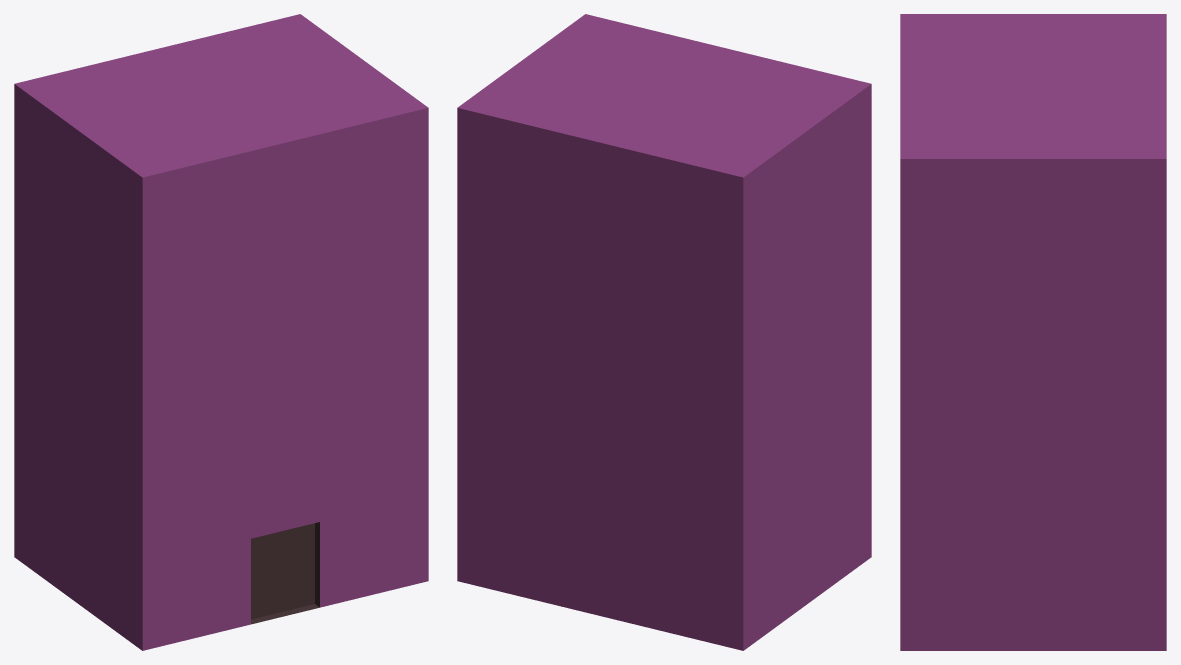
Rendered from edificio_Base_Mats.fbx.
3 renders of one model, left to right at view 1: azimuth 30°, elevation 25°; view 2: azimuth 150°, elevation 25°; view 3: azimuth 270°, elevation 25°, orthographic. The views are drawn at different scales.
Parts seen in each view (by area): view 1: Cube.008; view 2: Cube.008; view 3: Cube.008.
Boxes of the visible parts, x1,y1,x2,y2 form: Cube.008: (14,14,428,650); Cube.008: (457,14,871,650); Cube.008: (900,14,1166,650).
Bounding box in the file's own units: 15.31 × 24.2 × 11.88.
